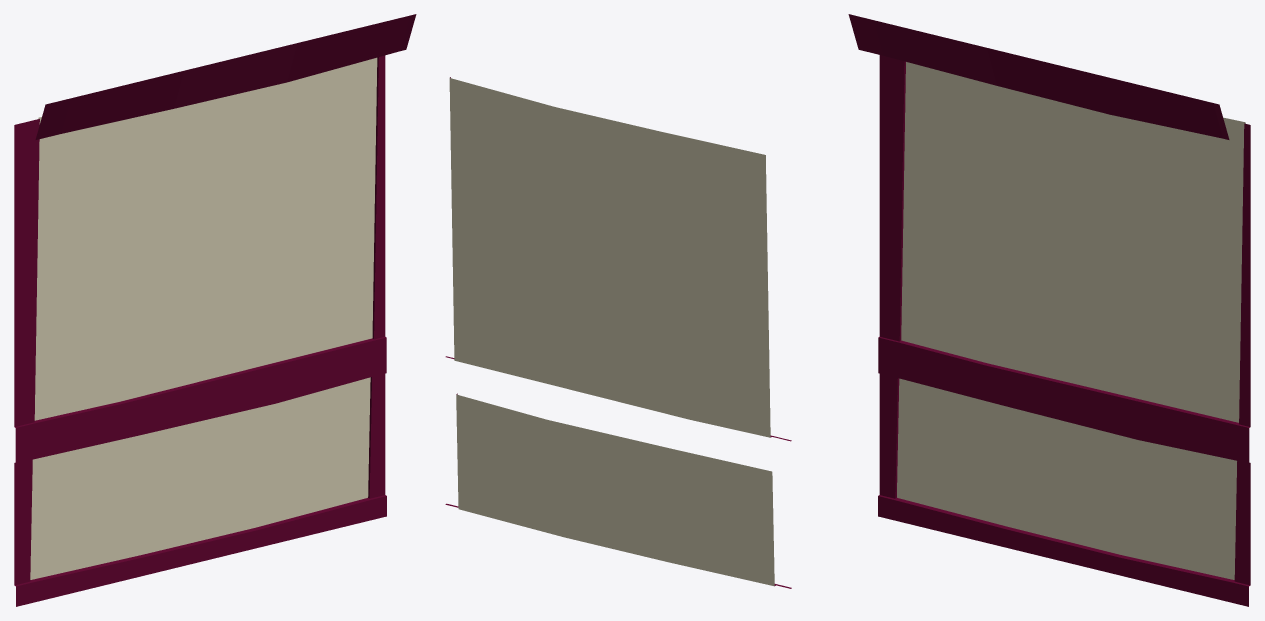
The model's file is mur1.fbx.
3 views of the same model, side by side, from view 1: azimuth 30°, elevation 25°; view 2: azimuth 150°, elevation 25°; view 3: azimuth 330°, elevation 25° (orthographic). The views are drawn at different scales.
Visible parts, largest first — view 1: Cube.005; view 2: Cube.005; view 3: Cube.005.
Boxes of the visible parts, bbox=[...] form: Cube.005: bbox=[14, 14, 416, 606]; Cube.005: bbox=[445, 77, 791, 588]; Cube.005: bbox=[848, 14, 1250, 606].
Bounding box in the file's own units: 200 × 270 × 30.39.
